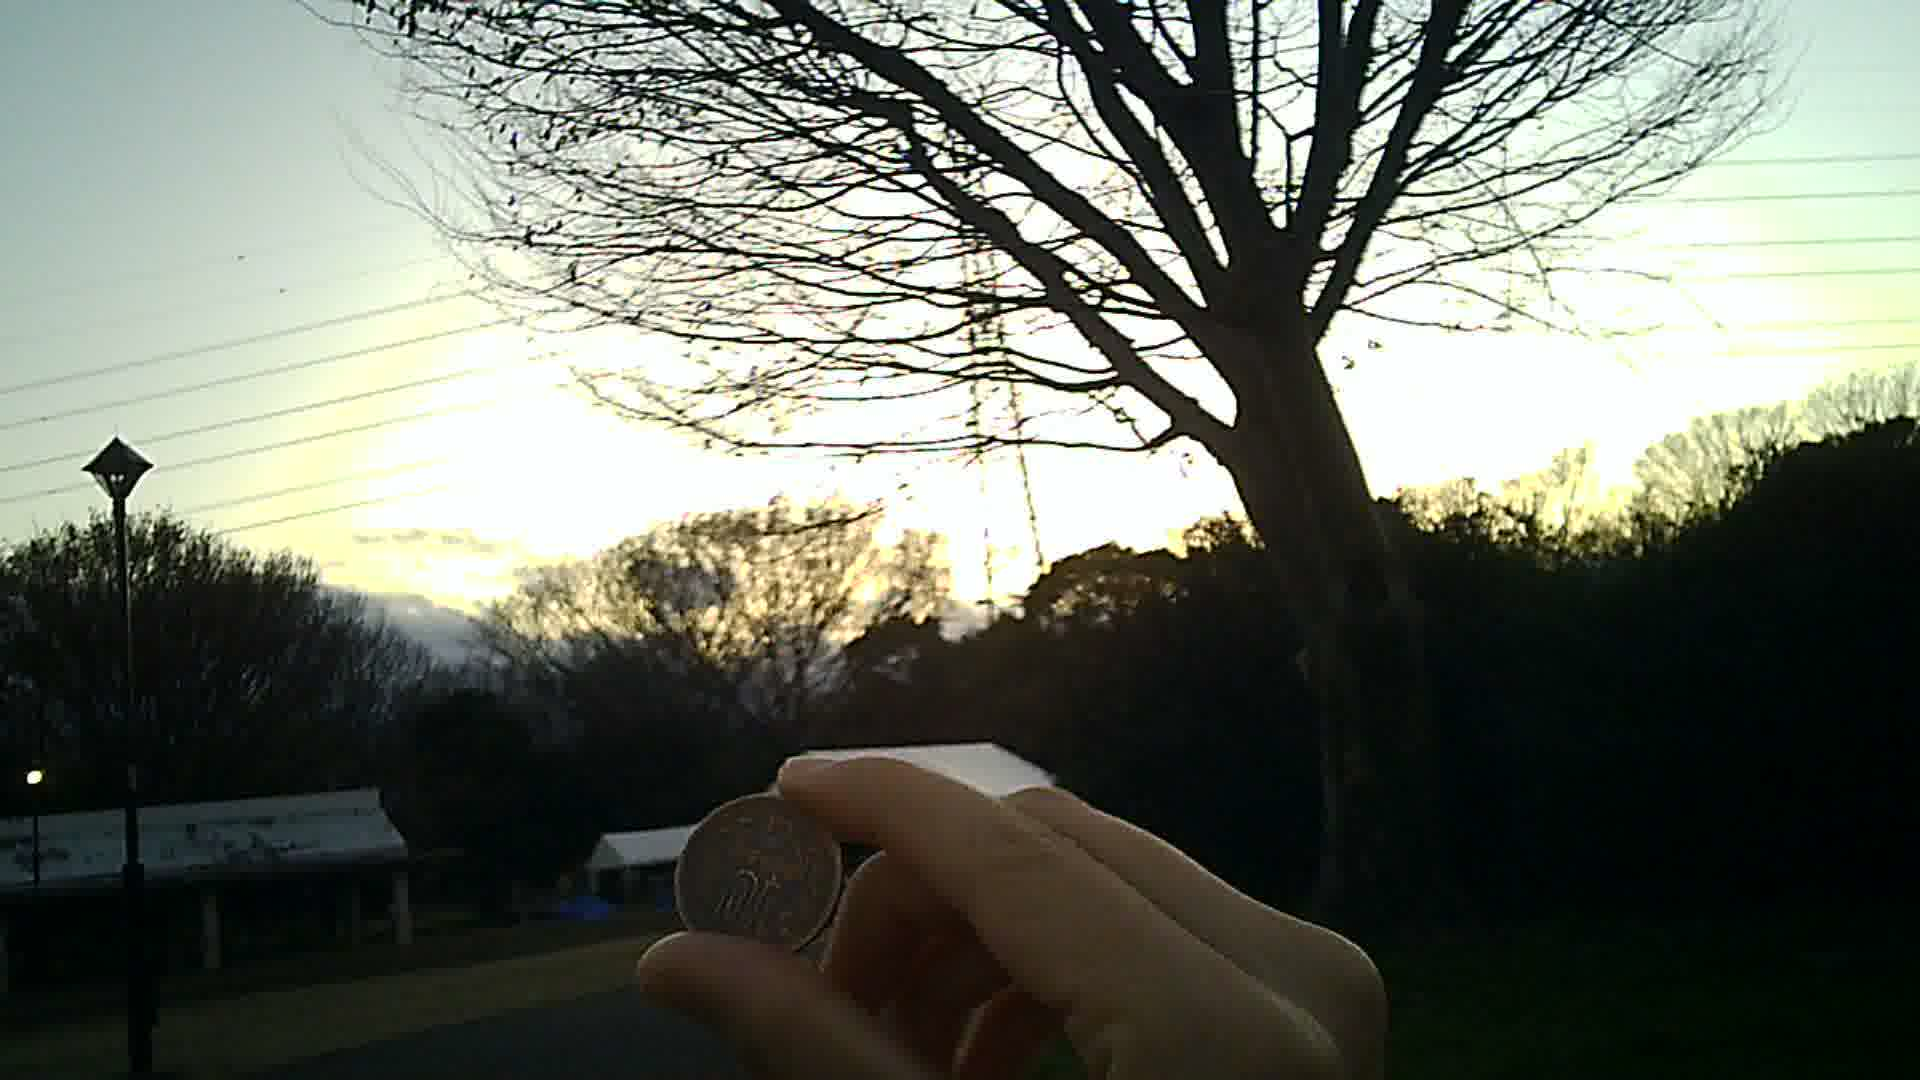10 Yen: (676, 793, 837, 951)
